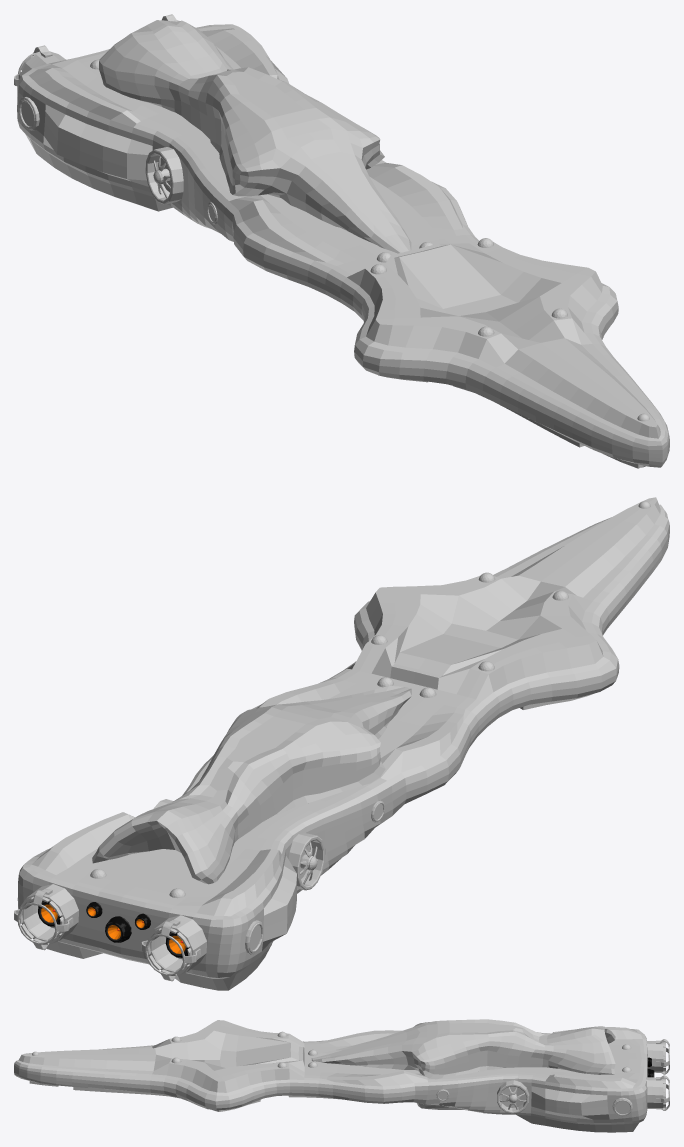
File: Corvette.fbx
The picture shows the model from 3 angles, top to bottom: view 1: azimuth 30°, elevation 25°; view 2: azimuth 150°, elevation 25°; view 3: azimuth 270°, elevation 25°; orthographic projection. The views are drawn at different scales.
Visible parts, largest first — view 1: Corvette, SideEngines, BackBigEngines; view 2: Corvette, BackBigEngines, SideEngines, BackSmallEngines; view 3: Corvette, BackBigEngines, SideEngines.
Boxes of the visible parts, x1,y1,x2,y2 form: Corvette: (17,20,669,468); SideEngines: (18,97,217,224); BackBigEngines: (14,14,179,85); Corvette: (17,497,669,990); BackBigEngines: (14,884,206,981); SideEngines: (153,799,384,954); BackSmallEngines: (38,901,188,957); Corvette: (14,1019,647,1132); BackBigEngines: (646,1039,669,1110); SideEngines: (436,1080,632,1116).
Bounding box in the file's own units: 3.28 × 1.77 × 12.58.
